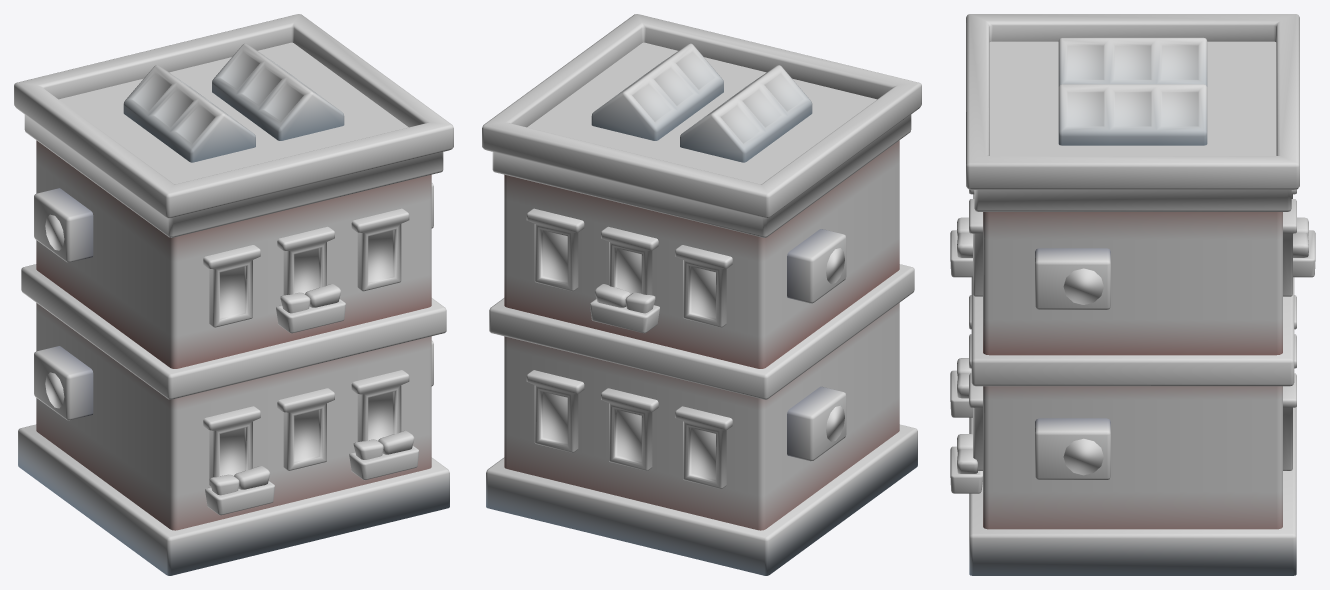
Rendered from Building_058.fbx.
The picture shows the model from 3 angles, left to right: view 1: azimuth 30°, elevation 25°; view 2: azimuth 150°, elevation 25°; view 3: azimuth 270°, elevation 25°; orthographic projection. The views are drawn at different scales.
Parts seen in each view (by area): view 1: Building_058; view 2: Building_058; view 3: Building_058.
Part boxes in pixels (x1,y1,x2,y2): Building_058: (14,14,453,575); Building_058: (482,14,921,575); Building_058: (950,14,1315,575).
Size of the model in its own units: 780 by 730 by 971.
